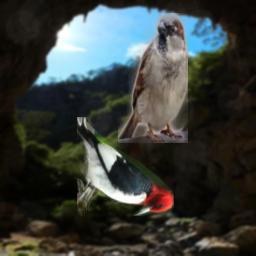Sparrow: (118, 13, 188, 143)
Woodpecker: (77, 117, 174, 216)
